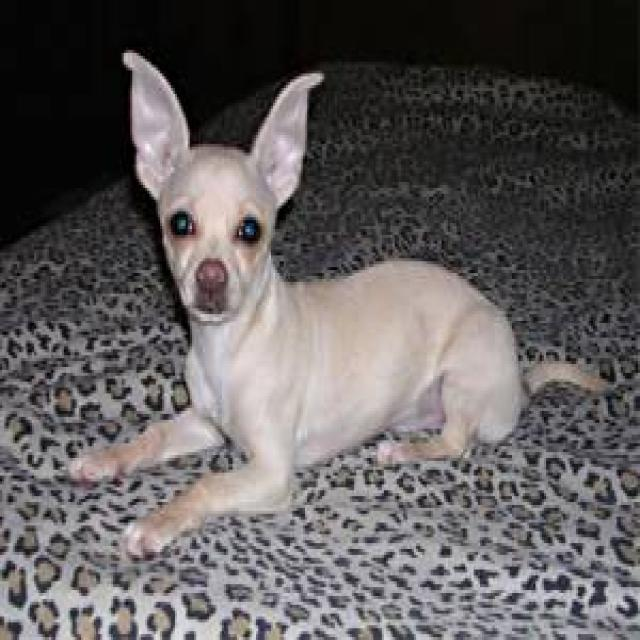dog-chihuahua: (70, 41, 610, 567)
